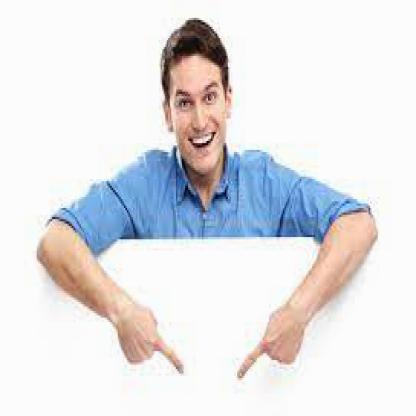Down: (108, 282, 190, 391), (230, 291, 312, 393)
